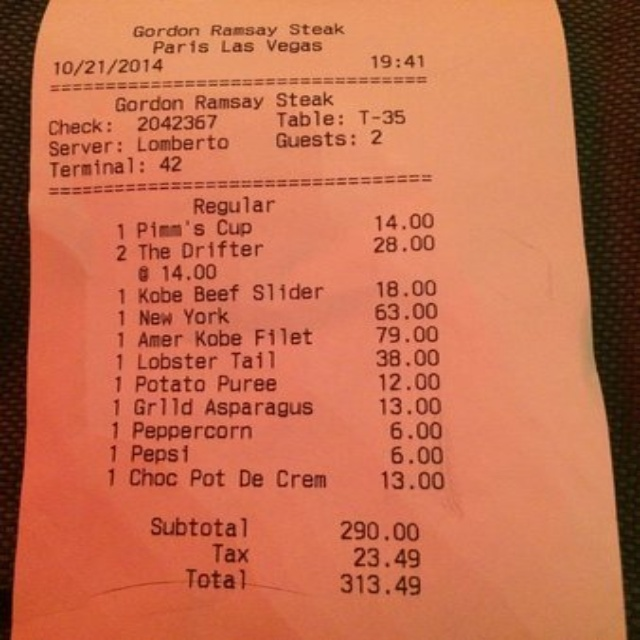invoice_table: (107, 212, 447, 489)
invoice_title: (132, 22, 348, 54)
invoice_total: (183, 568, 424, 597)
